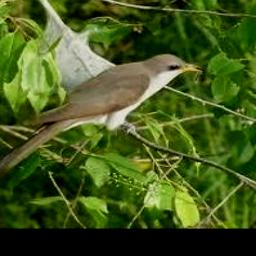Cuckoo: (0, 54, 205, 181)
